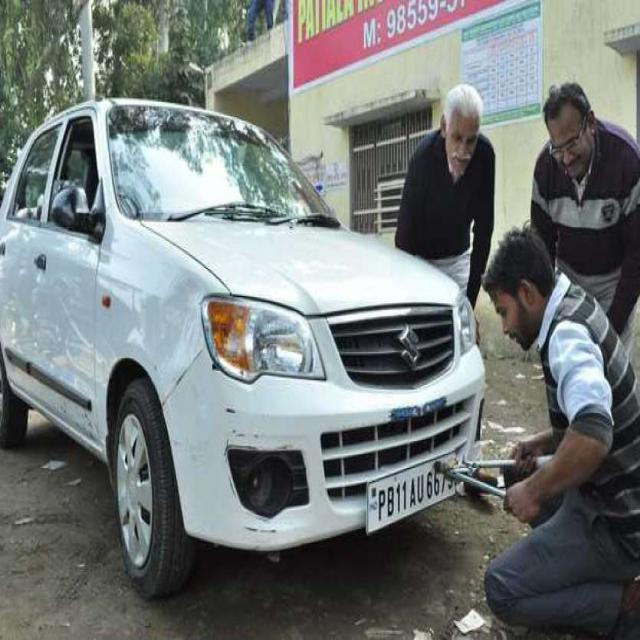License_Plate: (368, 455, 465, 535)
